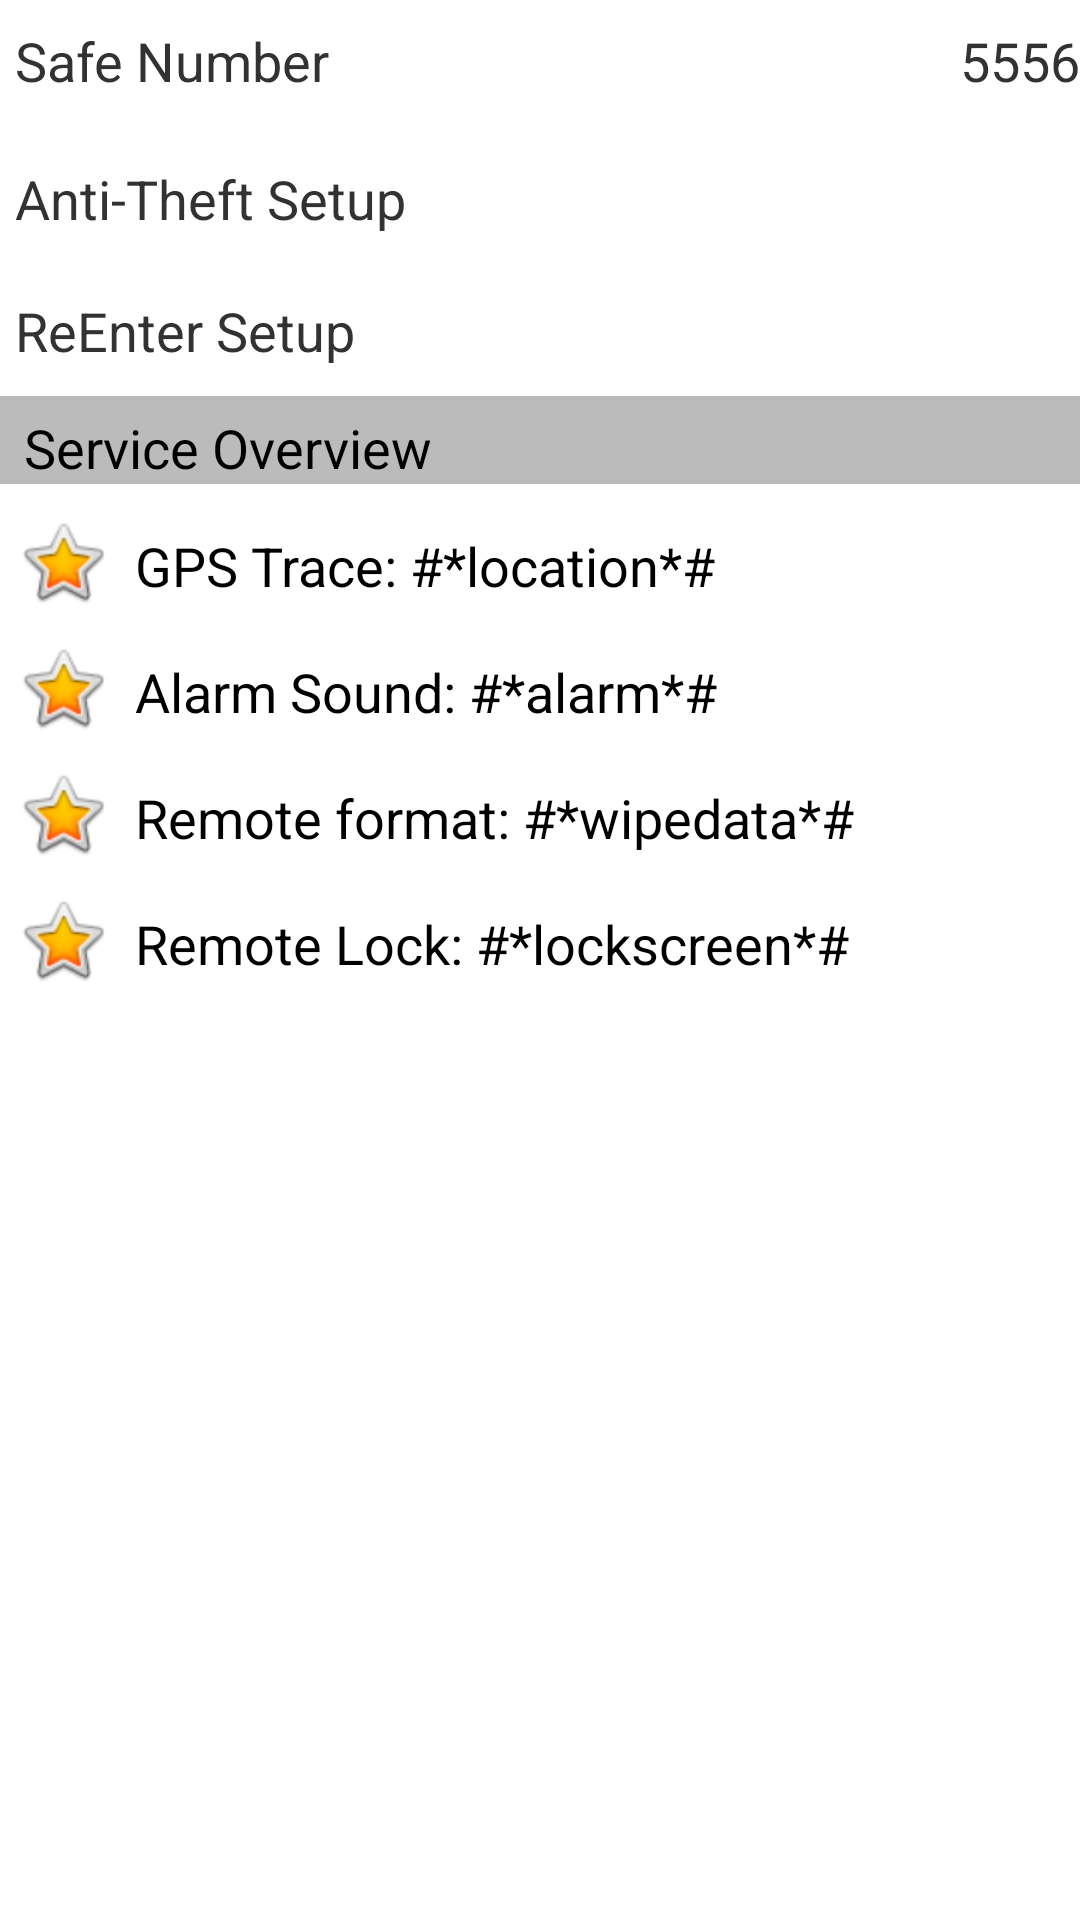

Locate icon controls on the screen. Image size 1080 x 1920, boxes as [left=x1, top=y1, right=x2, bottom=y2].
star on: [left=24, top=524, right=104, bottom=602], [left=24, top=650, right=104, bottom=728], [left=24, top=776, right=104, bottom=854], [left=24, top=902, right=104, bottom=980]
